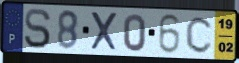0: (122, 11, 148, 54)
6: (157, 12, 182, 55)
8: (56, 9, 80, 51)
C: (184, 15, 215, 55)
S: (23, 7, 53, 50)
X: (89, 10, 119, 52)
